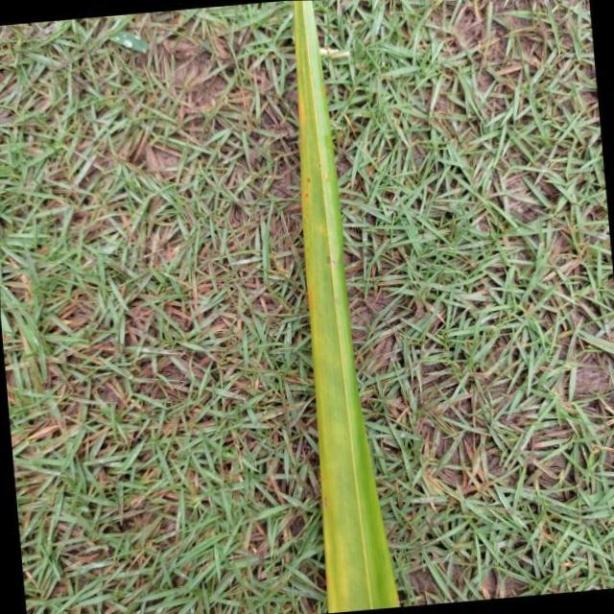nitrogen: (289, 0, 400, 614)
